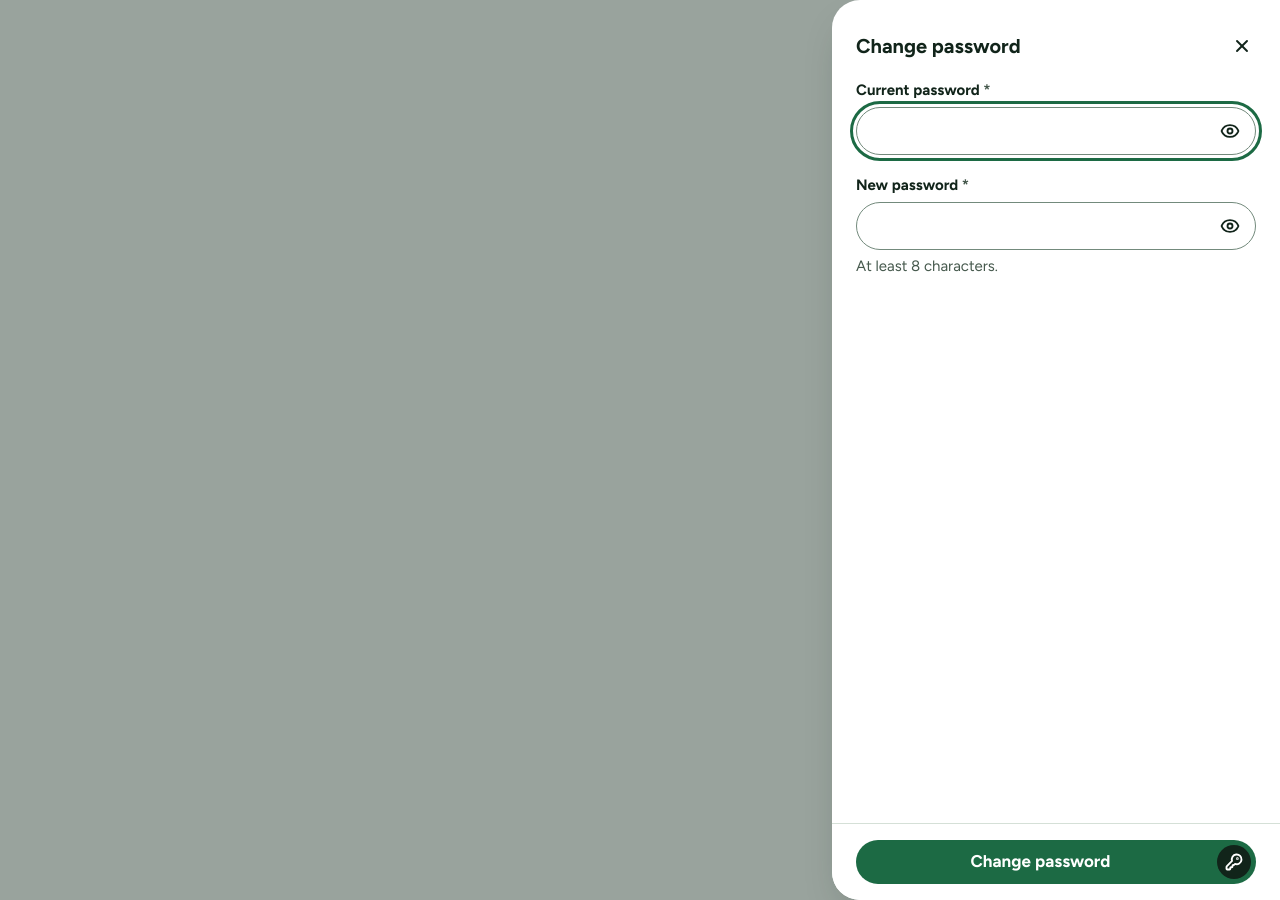
ChangePasswordSheet › sends both exactly as typed, empties the sheet, and says the other devices are signed out
Type " old one " into the password field labelled "Current password *".
click(1056, 131); type(" old one ")  # box [856,107,1256,155]
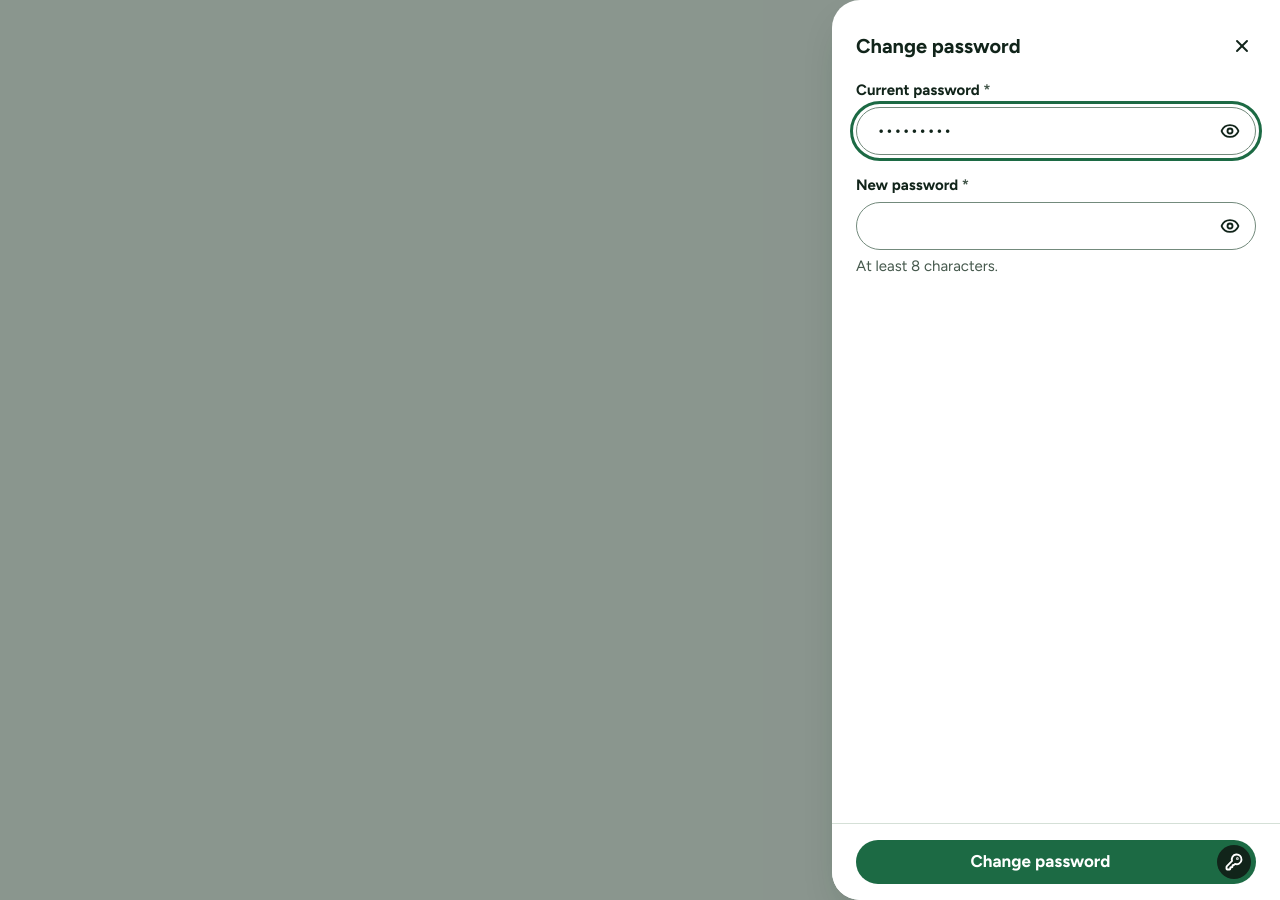
Type " a new one " into the password field labelled "New password *".
click(1056, 226); type(" a new one ")  # box [856,202,1256,250]
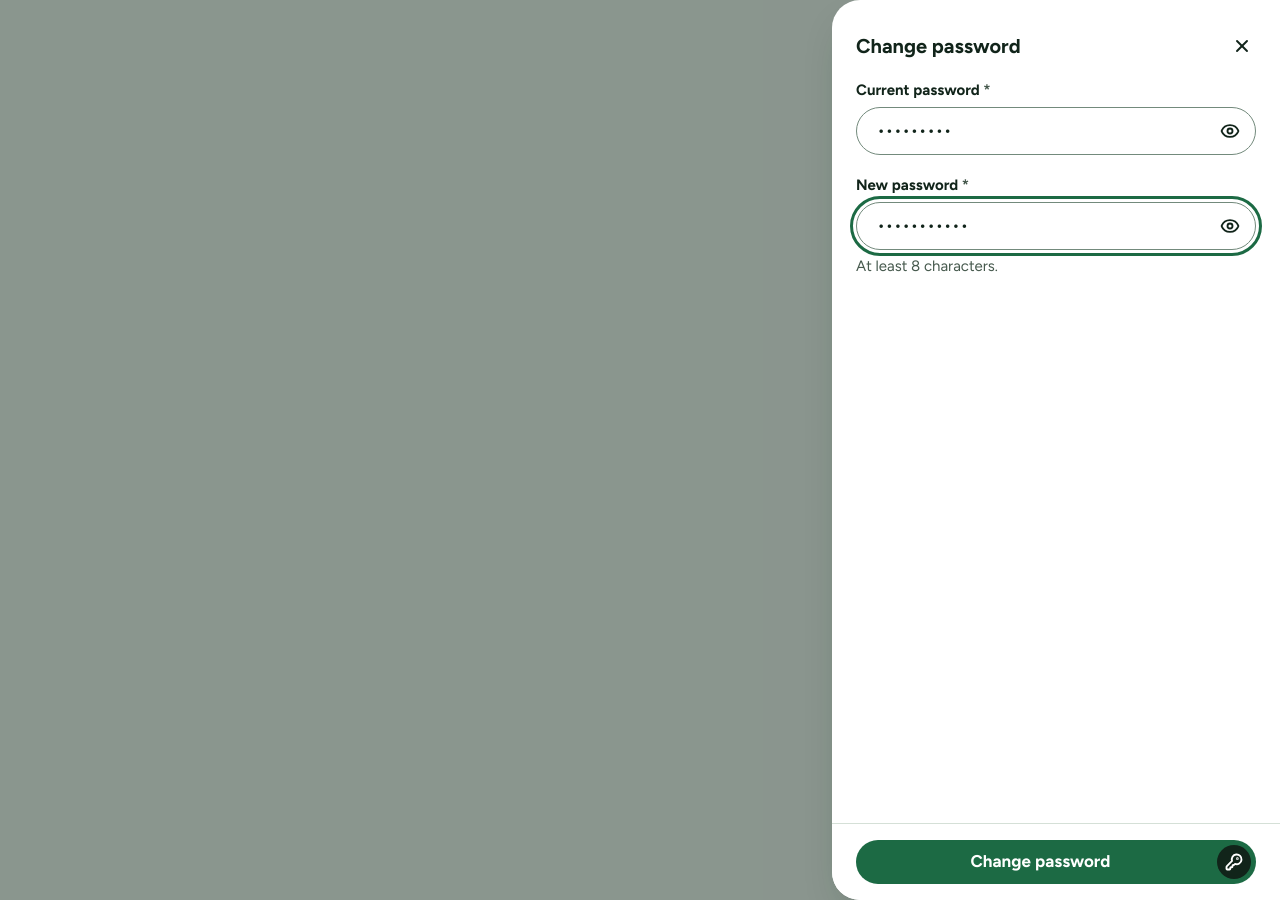
Click the button "Change password".
click(1056, 862)  # box [856,840,1256,884]
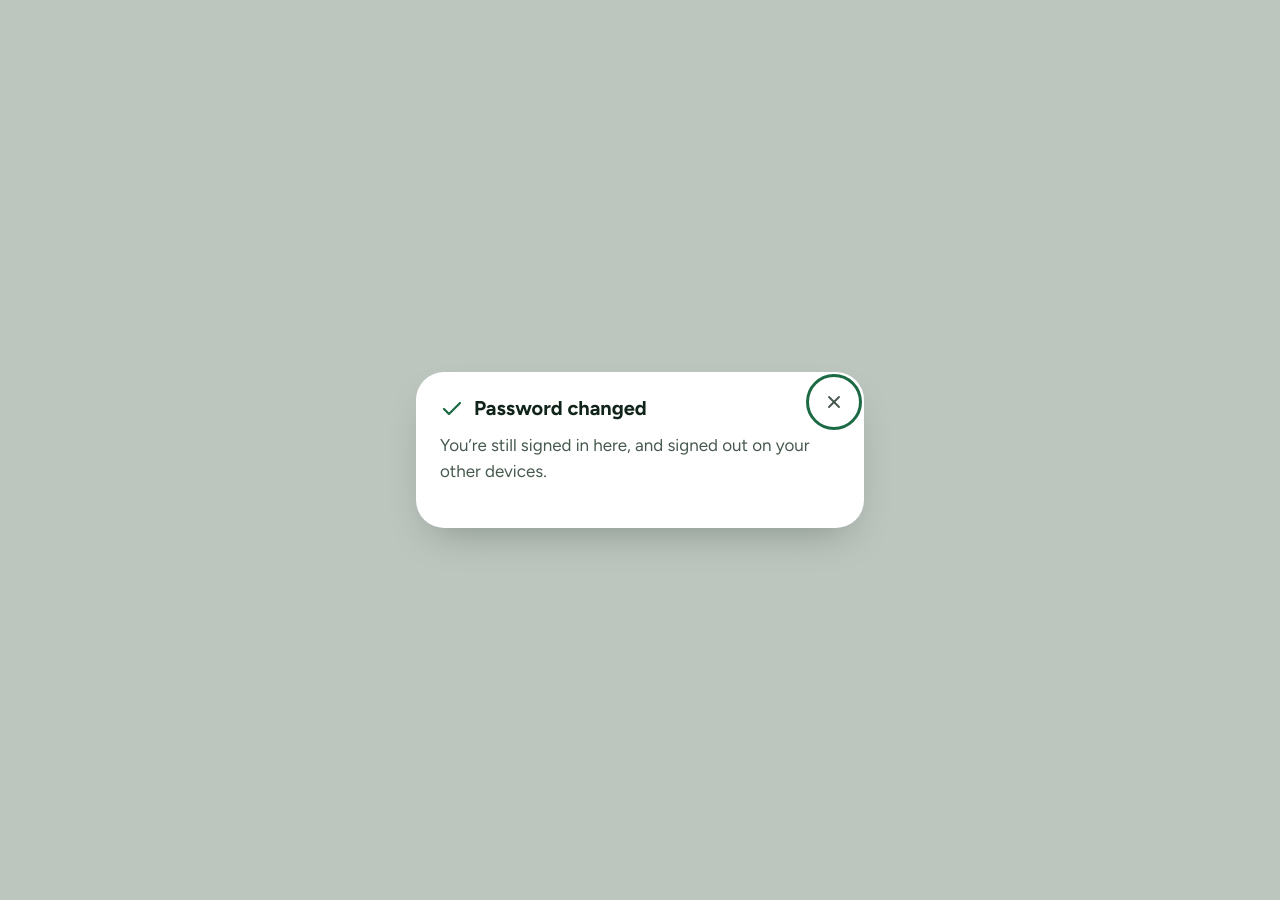
Check: the dialog "Password changed" shows "You’re still signed in here, and signed out on your other devices.", box [440,435,810,480]
